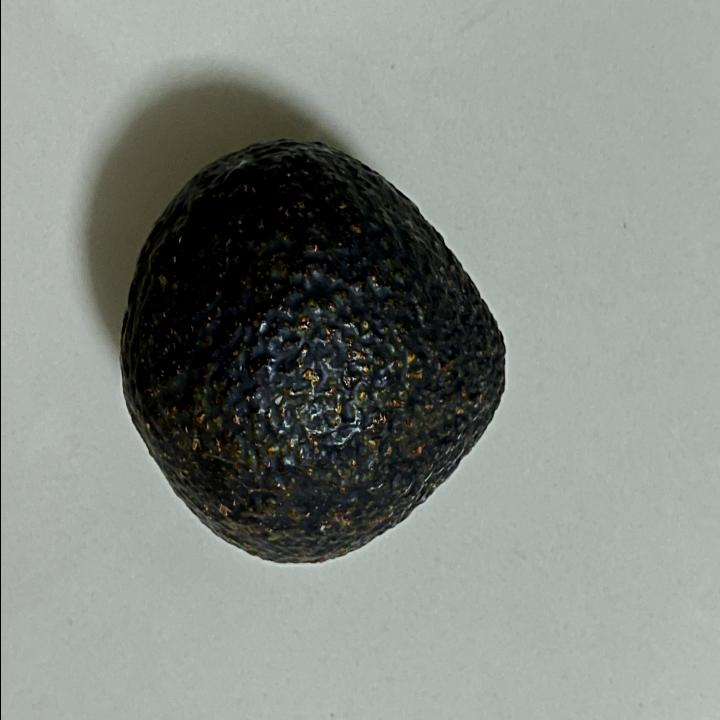Level1: (108, 127, 524, 594)
